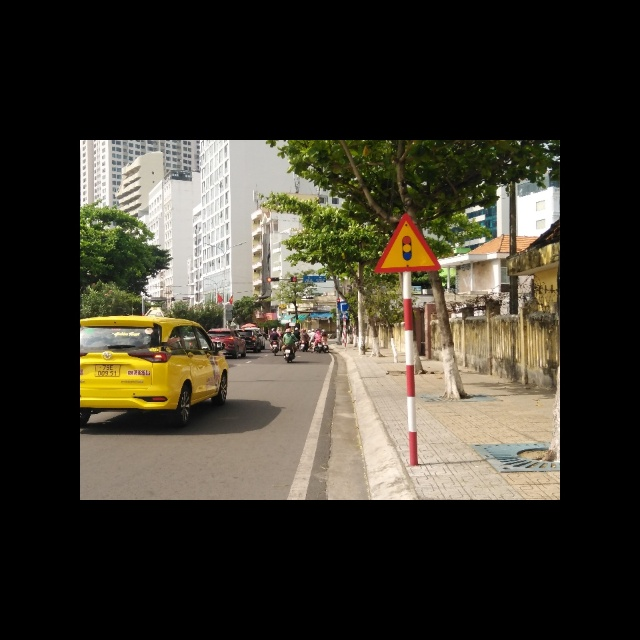Giao nhau có tín hiệu đèn: (374, 208, 442, 273)
